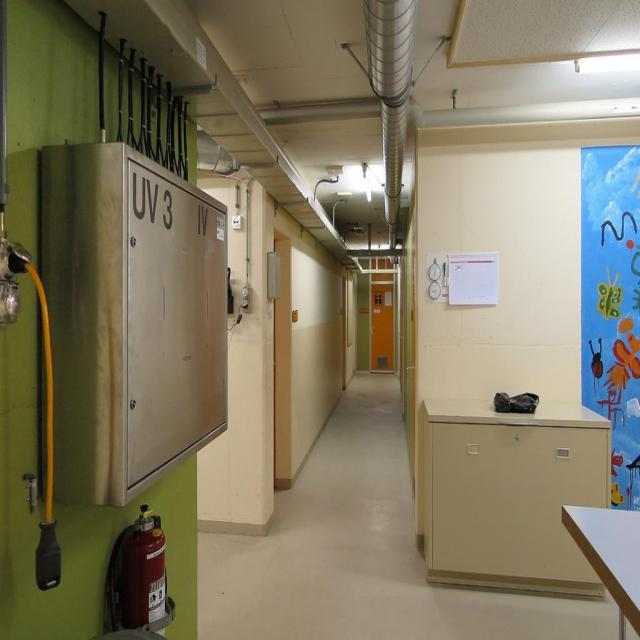Table: (560, 502, 640, 636)
